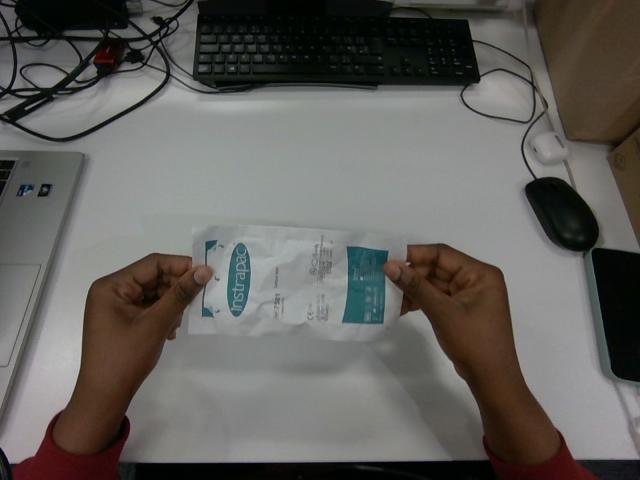gallipot: (188, 226, 406, 340)
